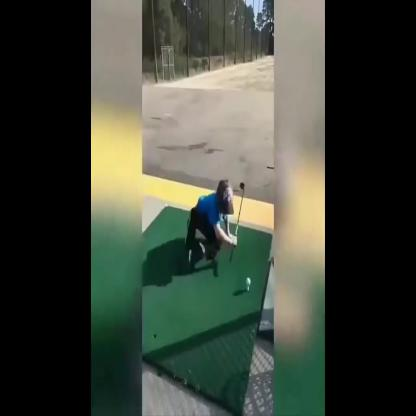Fall_Down: (183, 174, 240, 277)
